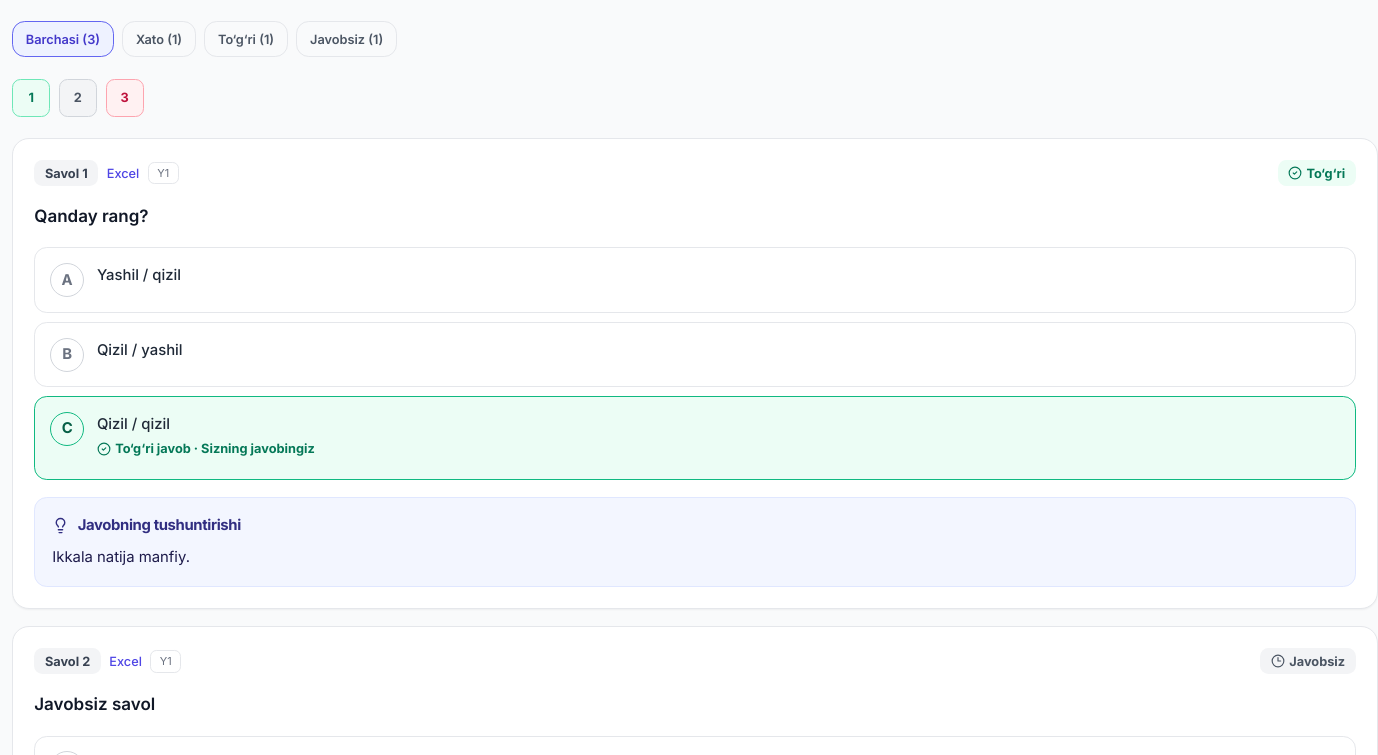
Test: ExamReviewList finalized answer analysis › does not falsely mark a skipped question as wrong, supports category filters
Click the button "Javobsiz (1)" at [347, 39], box [296,21,397,57]
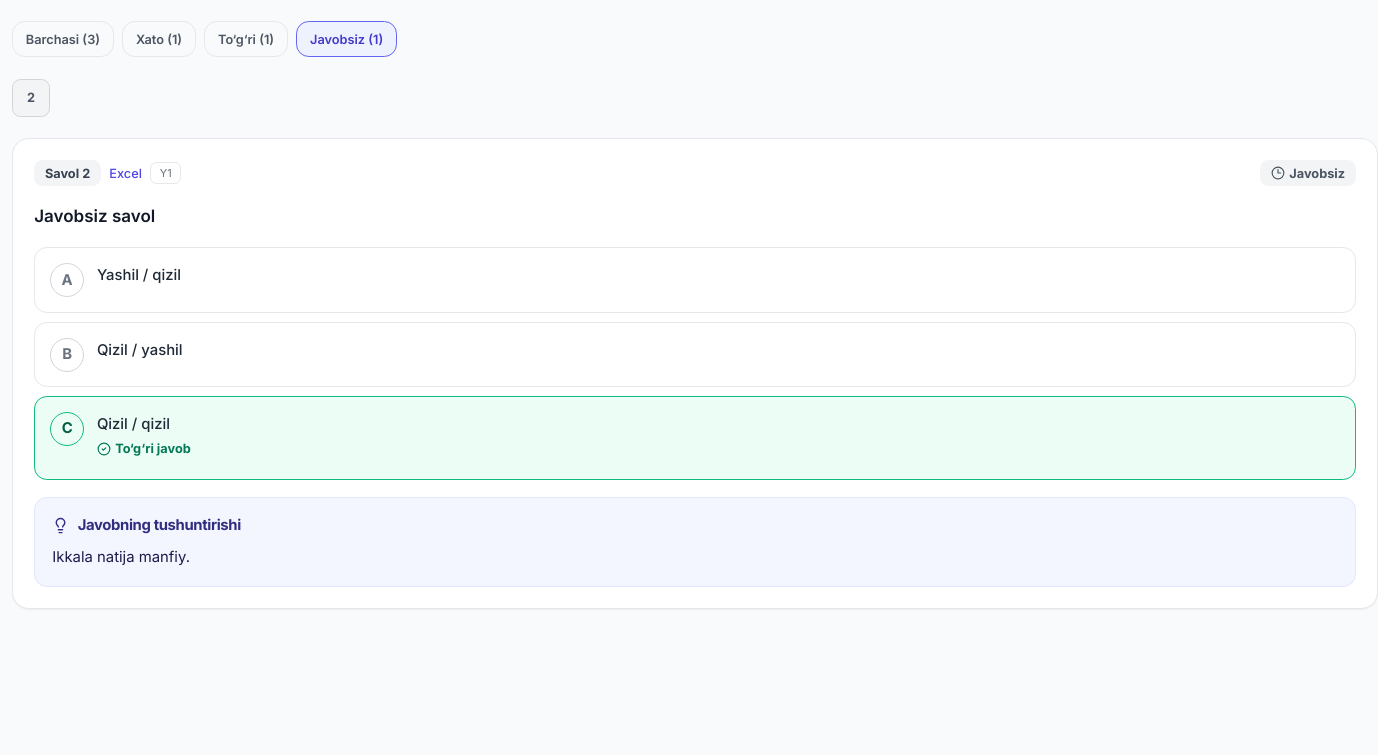
Expected: the text "Javobsiz savol" is shown, [34,206,155,226]
Expected: the link named "Savol 2: Javobsiz" is shown, [12,78,50,117]
Click the button "Xato (1)" at [159, 39], box [122,21,196,57]
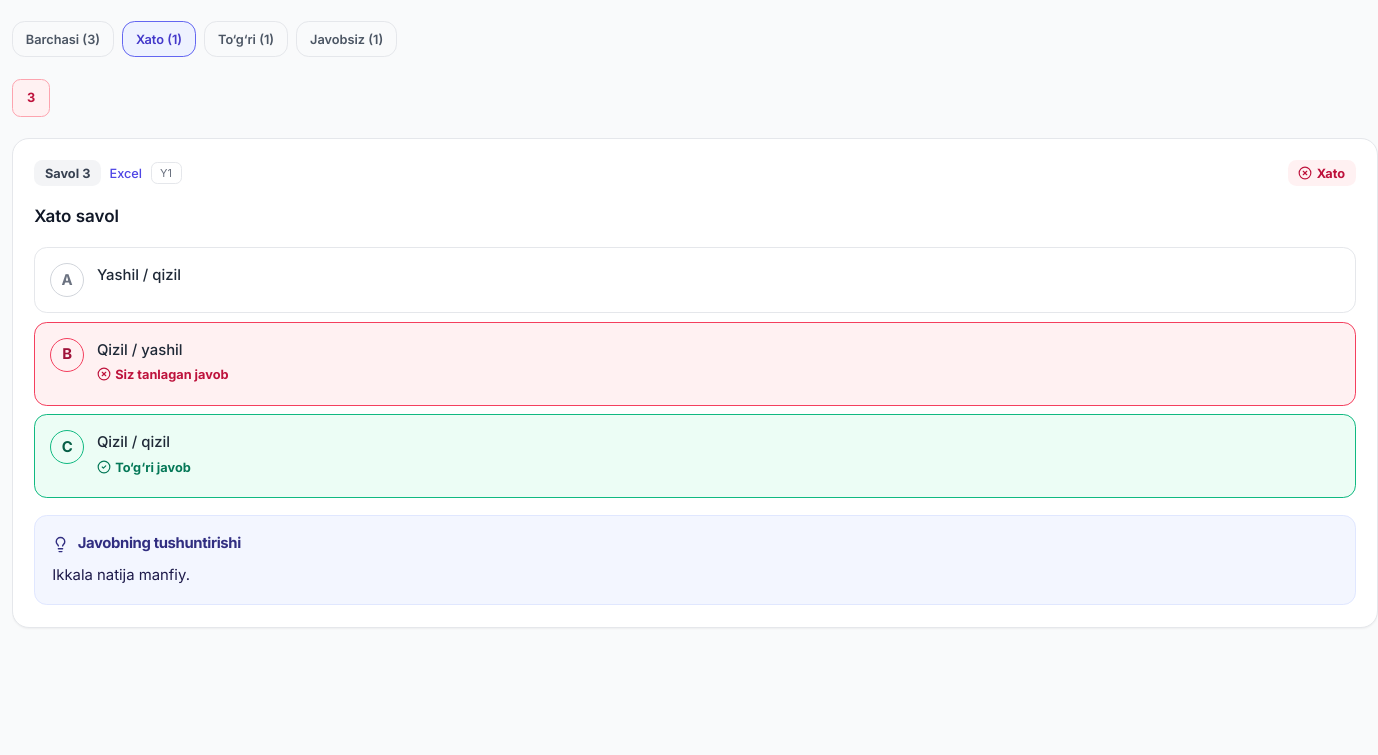
Expected: the text "Xato savol" is shown, [34,206,119,226]
Expected: the text "Javobsiz savol" is gone
